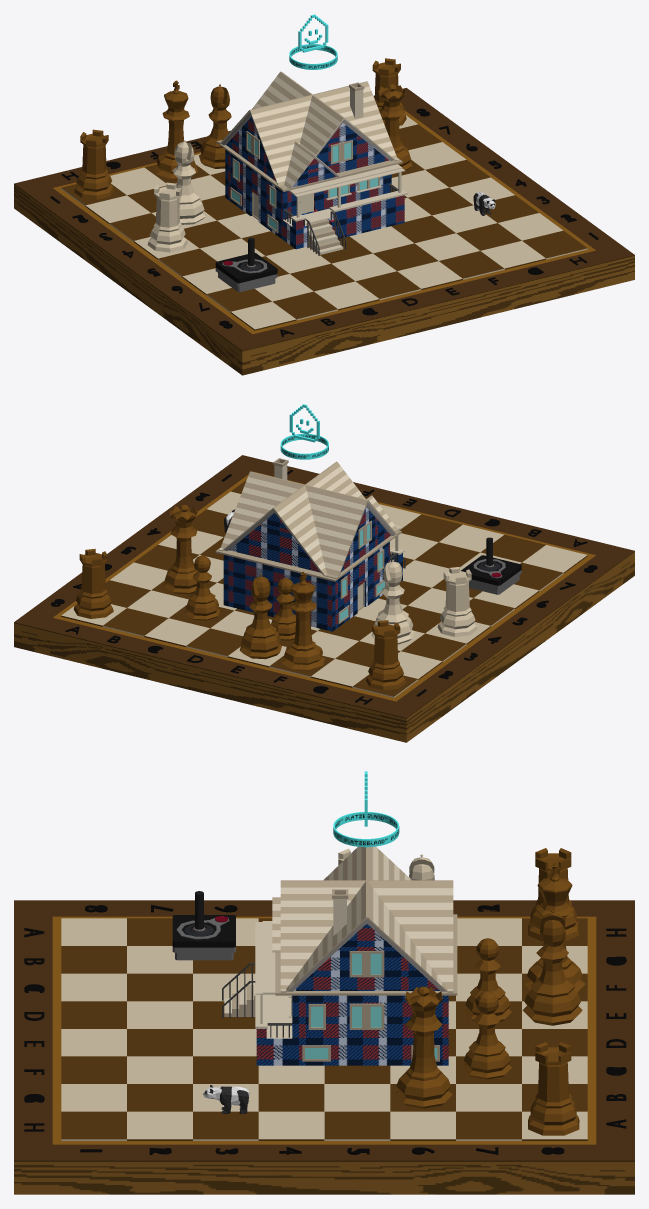
3 renders of one model, top to bottom at view 1: azimuth 30°, elevation 25°; view 2: azimuth 150°, elevation 25°; view 3: azimuth 270°, elevation 25°, orthographic. The views are drawn at different scales.
Parts seen in each view (by area): view 1: Cube.002, Cube.171, OBJRANDOM_JOYSTICK, TYPE_PREMIUM; view 2: Cube.002, Cube.171, OBJRANDOM_JOYSTICK, TYPE_PREMIUM; view 3: Cube.002, Cube.171, OBJRANDOM_JOYSTICK, TYPE_PREMIUM, ANIMAL_PANDA.
Boxes of the visible parts, x1,y1,x2,y2 form: Cube.002: (14,58,634,375); Cube.171: (216,71,407,255); OBJRANDOM_JOYSTICK: (215,237,277,292); TYPE_PREMIUM: (289,14,337,69); Cube.002: (14,455,634,742); Cube.171: (215,458,405,631); OBJRANDOM_JOYSTICK: (461,537,521,594); TYPE_PREMIUM: (280,404,328,459); Cube.002: (14,848,634,1194); Cube.171: (222,846,457,1065); OBJRANDOM_JOYSTICK: (172,891,235,960); TYPE_PREMIUM: (333,771,399,847); ANIMAL_PANDA: (203,1085,249,1113).
Size of the model in its own units: 3981 by 2178 by 4012.
Materials: 32 (4 with a texture image).
